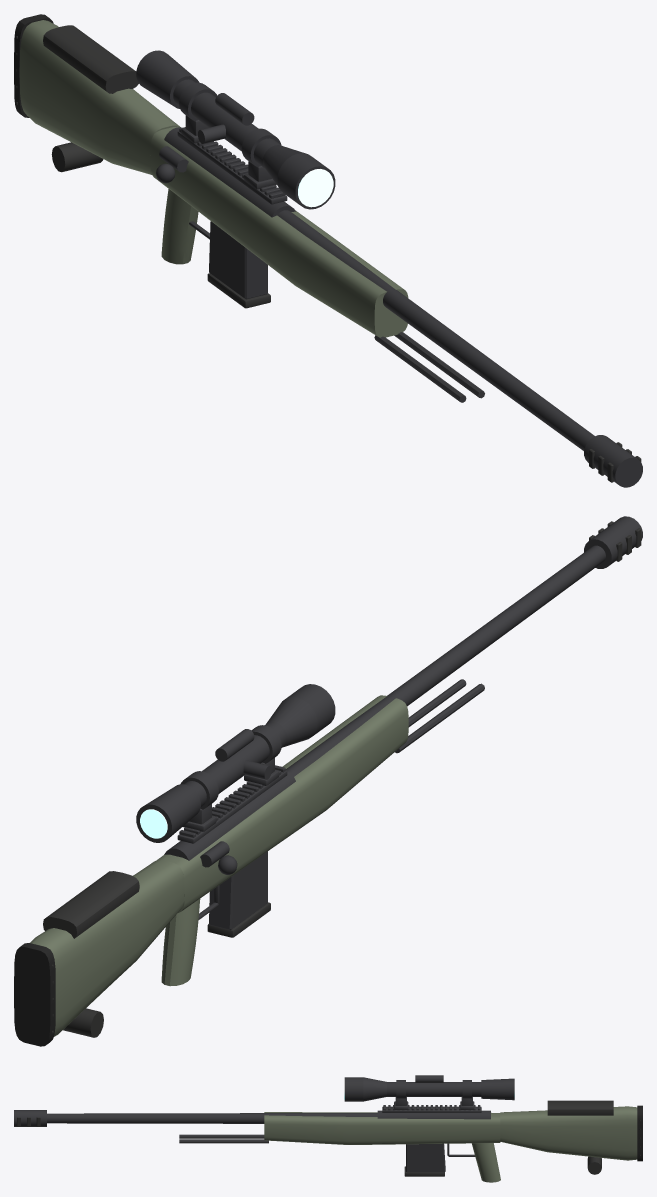
Rendered from kff.glb.
3 renders of one model, top to bottom at view 1: azimuth 30°, elevation 25°; view 2: azimuth 150°, elevation 25°; view 3: azimuth 270°, elevation 25°, orthographic. The views are drawn at different scales.
Visible parts, largest first — view 1: Body; view 2: Body; view 3: Body.
Part boxes in pixels (x1=…): Body: x1=14, y1=14, x2=642, y2=487; Body: x1=14, y1=516, x2=642, y2=1046; Body: x1=14, y1=1075, x2=642, y2=1182.
Size of the model in its own units: 0.0765 by 0.2428 by 1.33.
